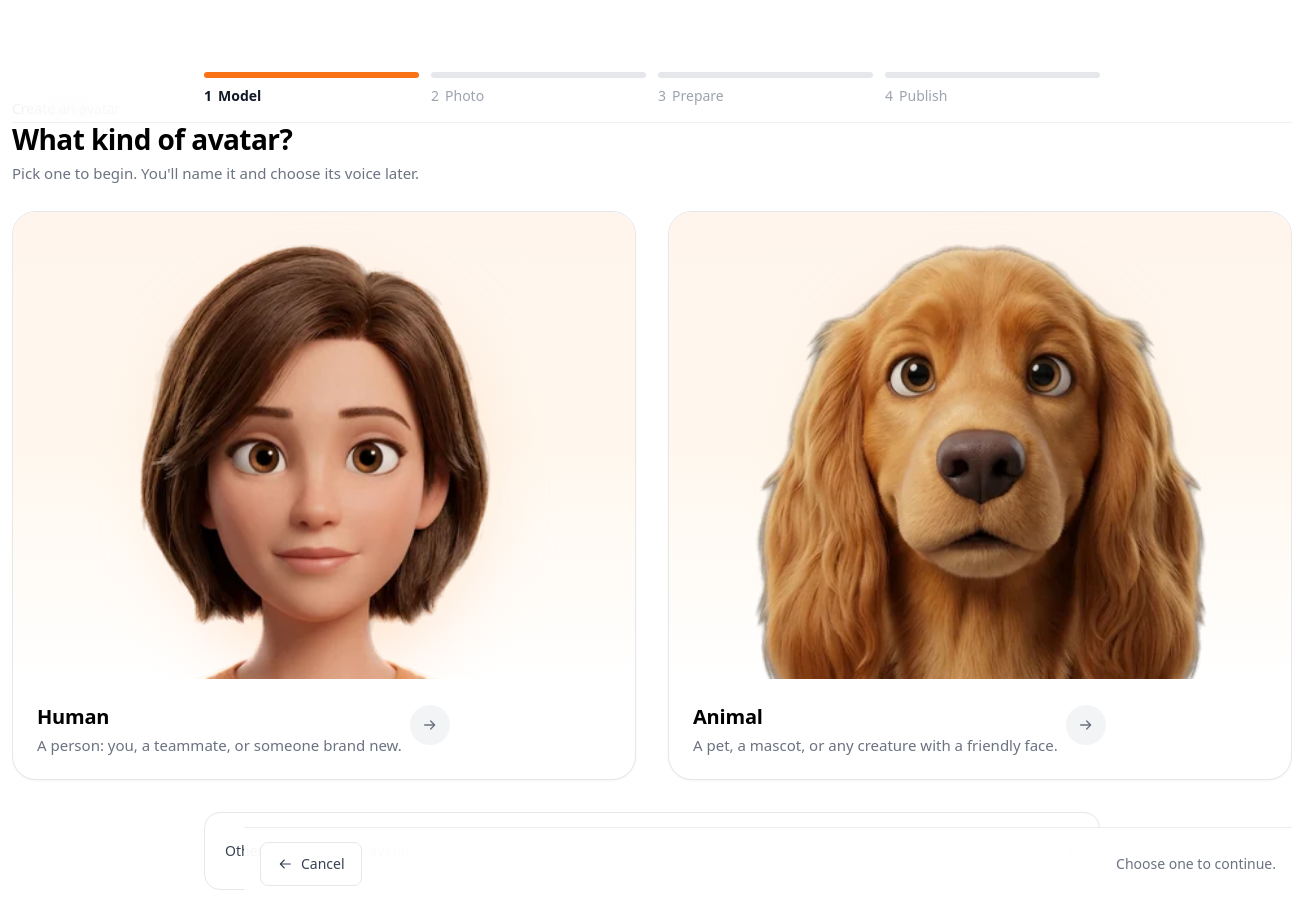
Test case: step 2: the photo › Create waits for a description and the statement, and says what it waits for
Expected: the heading "What kind of avatar?" is shown, top-left (12, 120), bottom-right (292, 158)
What coordinates should you click on to do the following:
click the button "Human A person: you, a teammate, or someone brand new."
I would click on:
 (324, 496)
Its box is top-left (12, 211), bottom-right (636, 780).
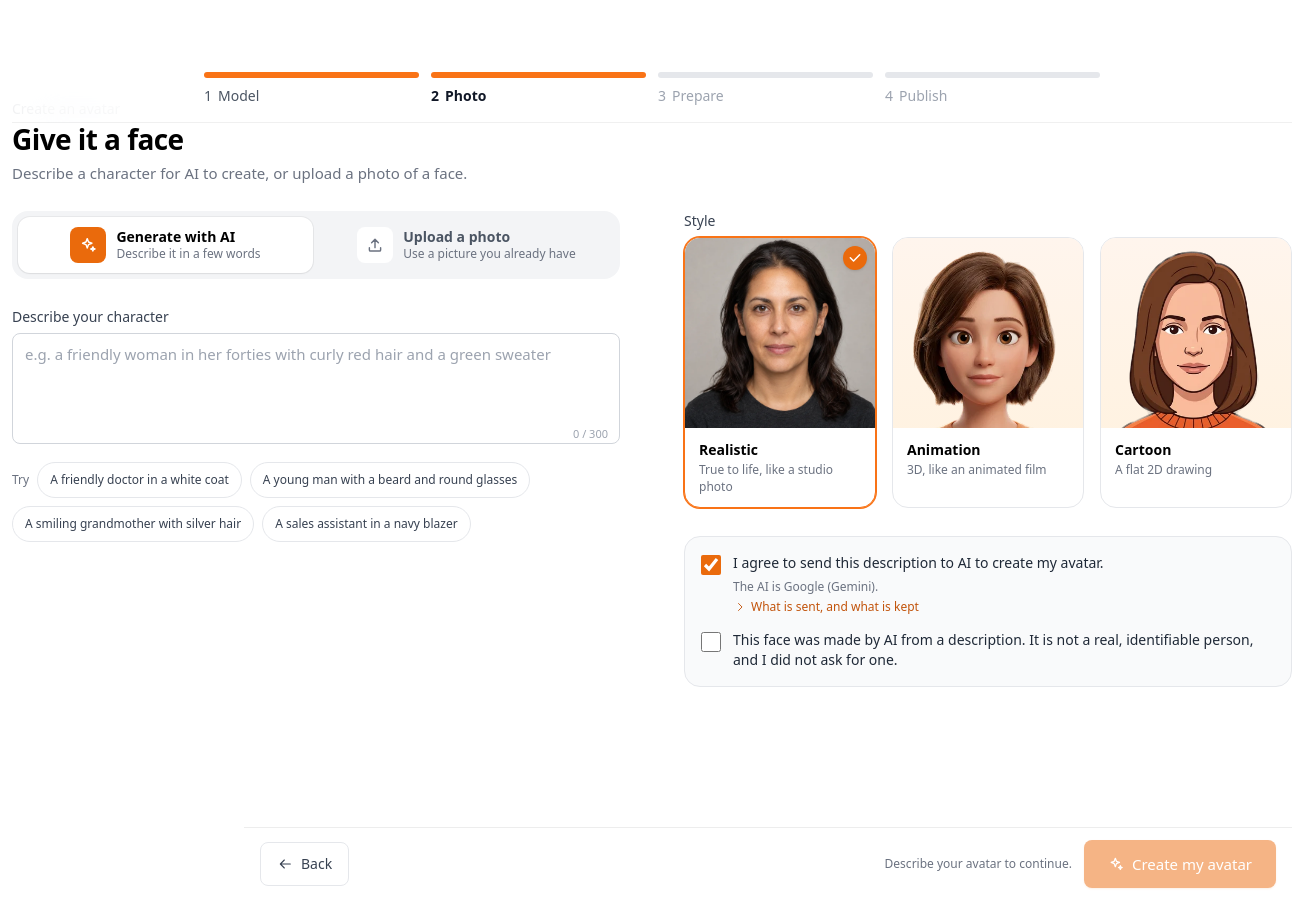
Result: the heading "Give it a face" is shown at top-left (12, 120), bottom-right (184, 158)
Result: the button "Create my avatar" is disabled at top-left (1084, 840), bottom-right (1276, 888)
What coordinates should you click on to do the following:
click the button "A friendly doctor in a white coat"
I would click on:
 (140, 480)
Its box is top-left (37, 462), bottom-right (242, 498).
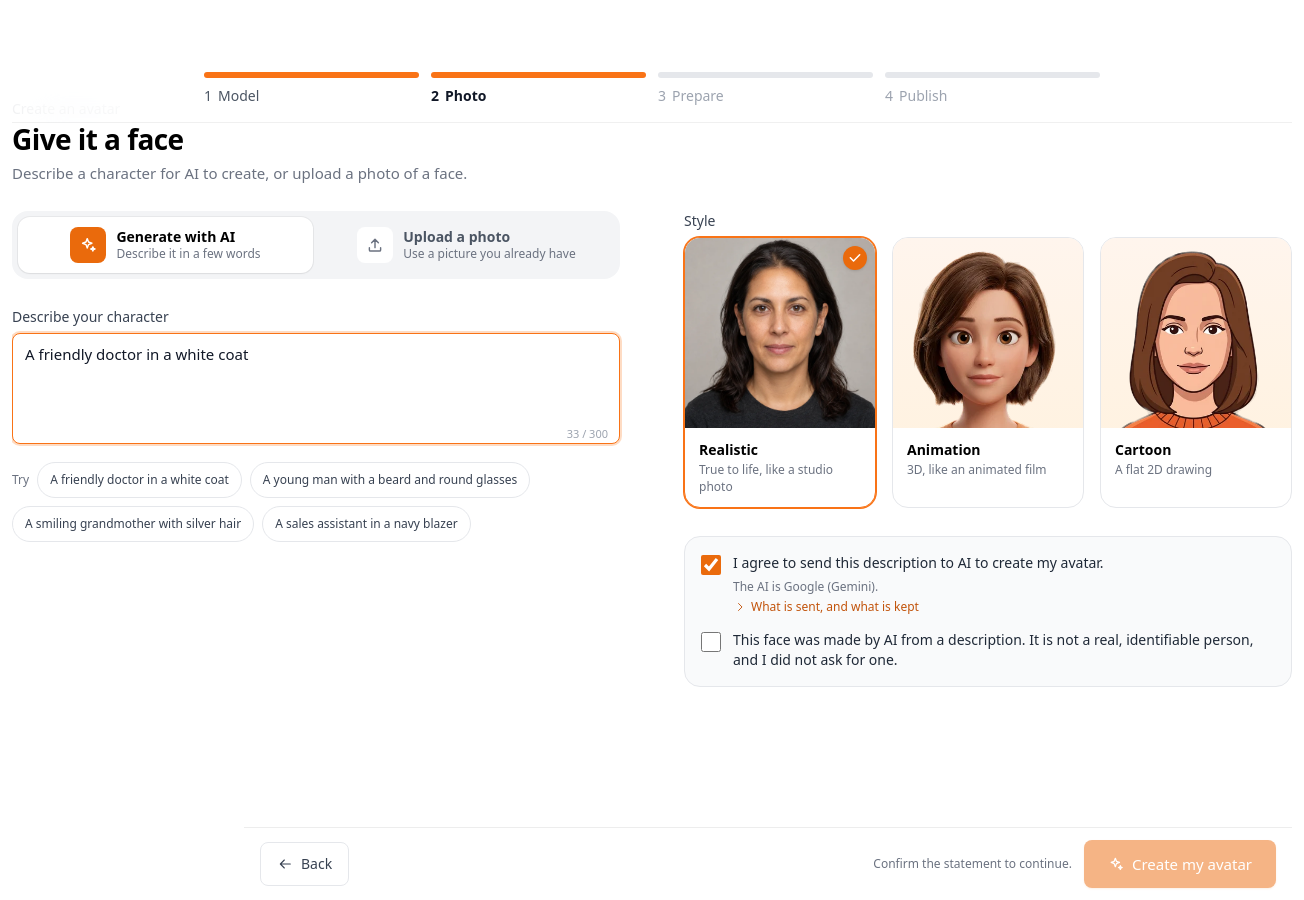
Result: the button "Create my avatar" is disabled at top-left (1084, 840), bottom-right (1276, 888)
Result: the text box labelled "Describe your character" holds "A friendly doctor in a white coat" at top-left (12, 333), bottom-right (620, 444)
What coordinates should you click on to do the following:
click the checkbox named "This face was made by AI from a description. It is not a real, identifiable person, and I did not ask for one."
I would click on:
 (711, 642)
Its box is top-left (701, 632), bottom-right (721, 652).
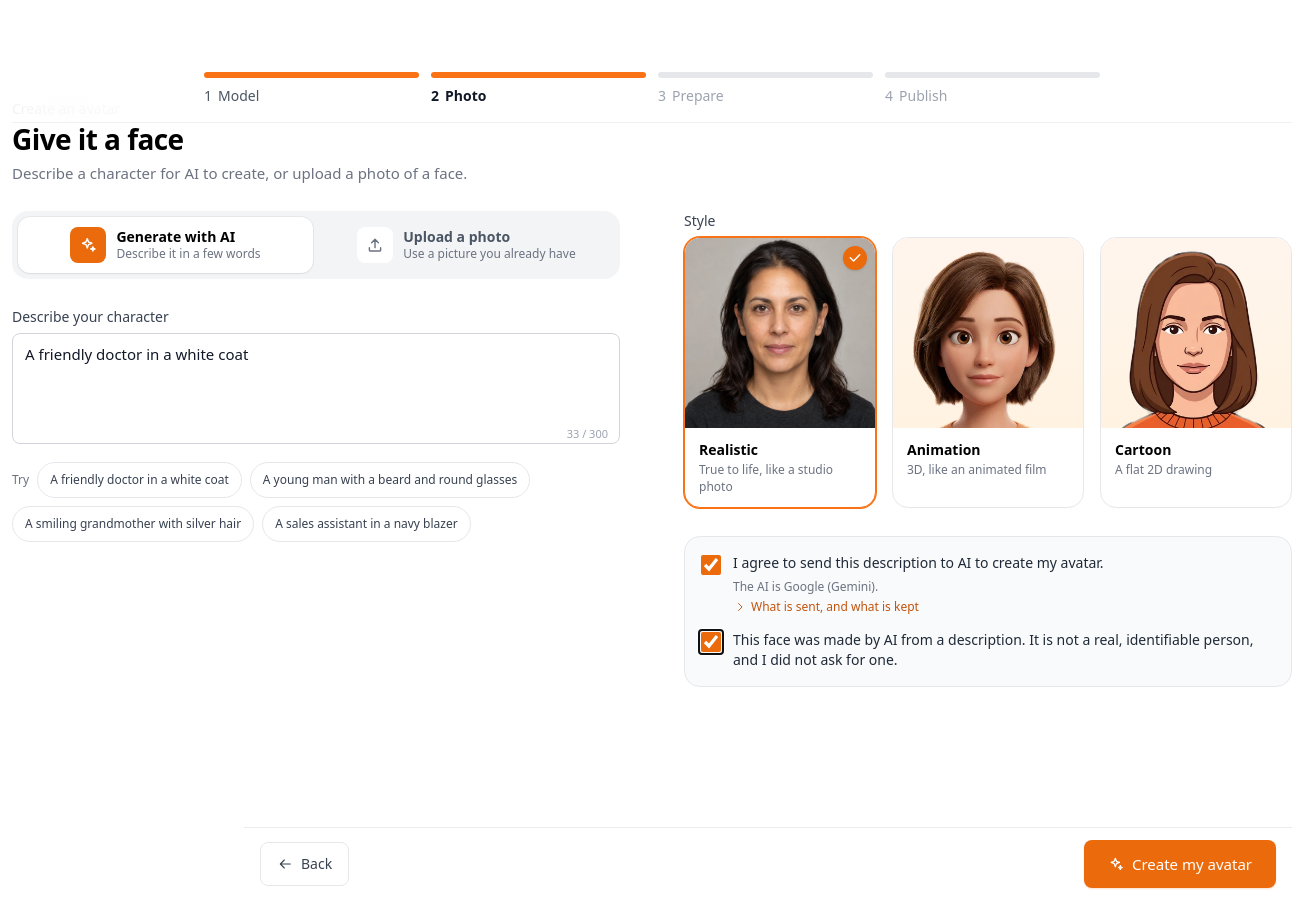
Result: the button "Create my avatar" is enabled at top-left (1084, 840), bottom-right (1276, 888)
